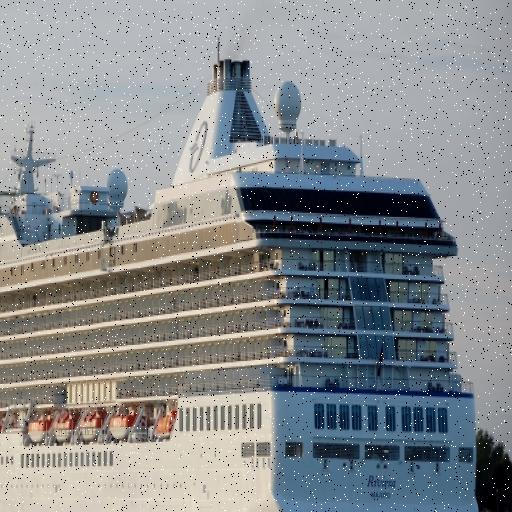cruises: (1, 24, 489, 512)
